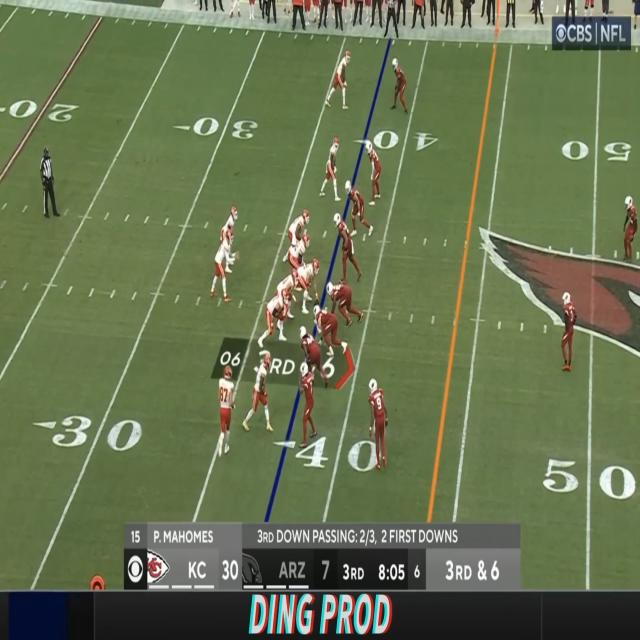players: (330, 211, 366, 288), (244, 354, 276, 438), (367, 377, 392, 468), (341, 177, 376, 241), (210, 230, 238, 303), (326, 45, 355, 113), (325, 279, 363, 327), (558, 283, 576, 382), (319, 132, 344, 203), (260, 289, 290, 348), (219, 367, 238, 458), (298, 365, 319, 446), (293, 256, 323, 310), (314, 308, 346, 358), (298, 330, 324, 389), (285, 205, 313, 257), (389, 58, 411, 120), (620, 193, 638, 266), (367, 142, 385, 205), (220, 202, 241, 256), (284, 238, 309, 278), (276, 270, 298, 309)
